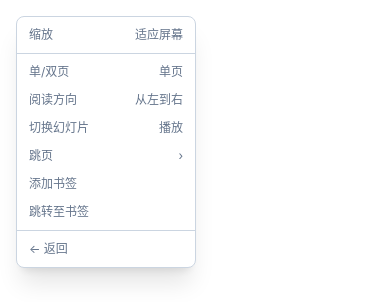
Test: ReaderContextMenu › 点缩放子菜单展开 5 个 ScaleMode
This screenshot has width=366, height=302.
Click the element with test id "ctx-scale" at (106, 35), box [17,21,195,49]
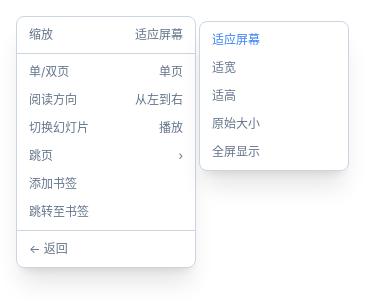
Expected: the number of menu items with test id "ctx-scale-option" is 5, [200,26,348,54]; [200,54,348,82]; [200,82,348,110]; [200,110,348,138]; [200,138,348,166]
